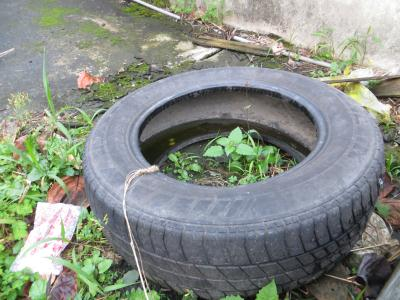tire: (79, 65, 390, 297)
